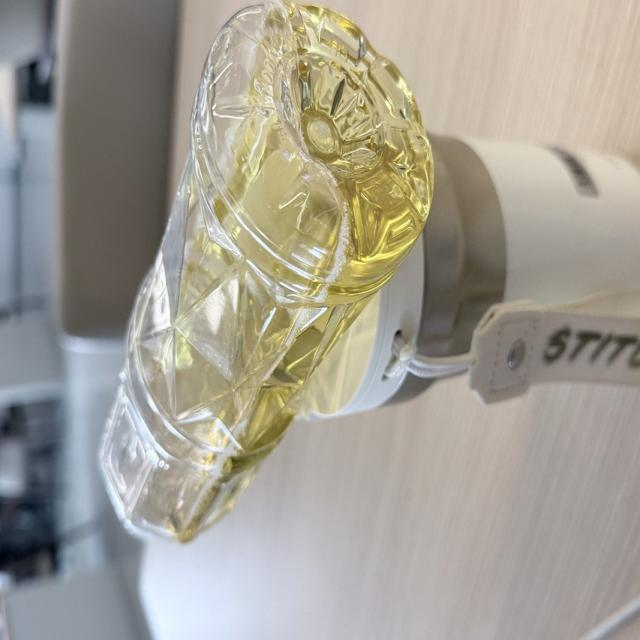medium: (101, 0, 433, 541)
